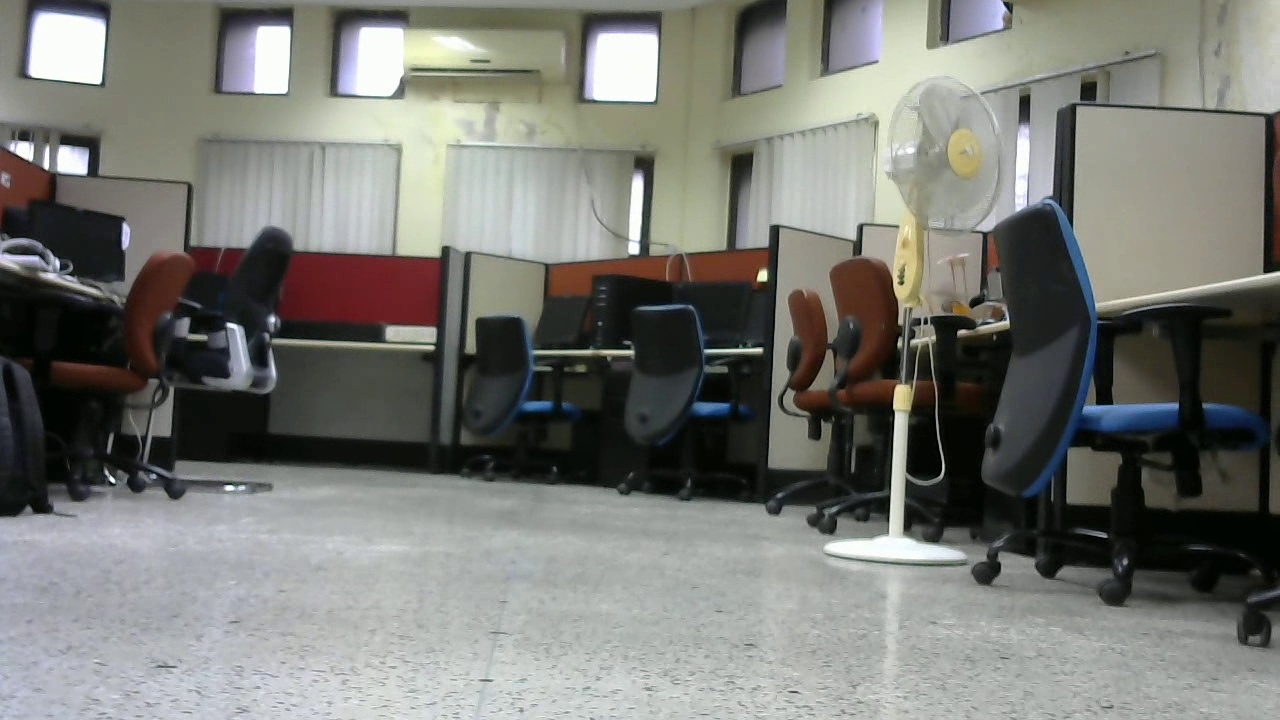chair: (971, 200, 1259, 605), (824, 257, 970, 537), (176, 219, 301, 499), (57, 240, 192, 473), (619, 302, 758, 505), (451, 316, 598, 495), (766, 282, 867, 502)
